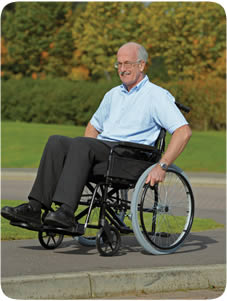wheelchair: (2, 42, 196, 256)
